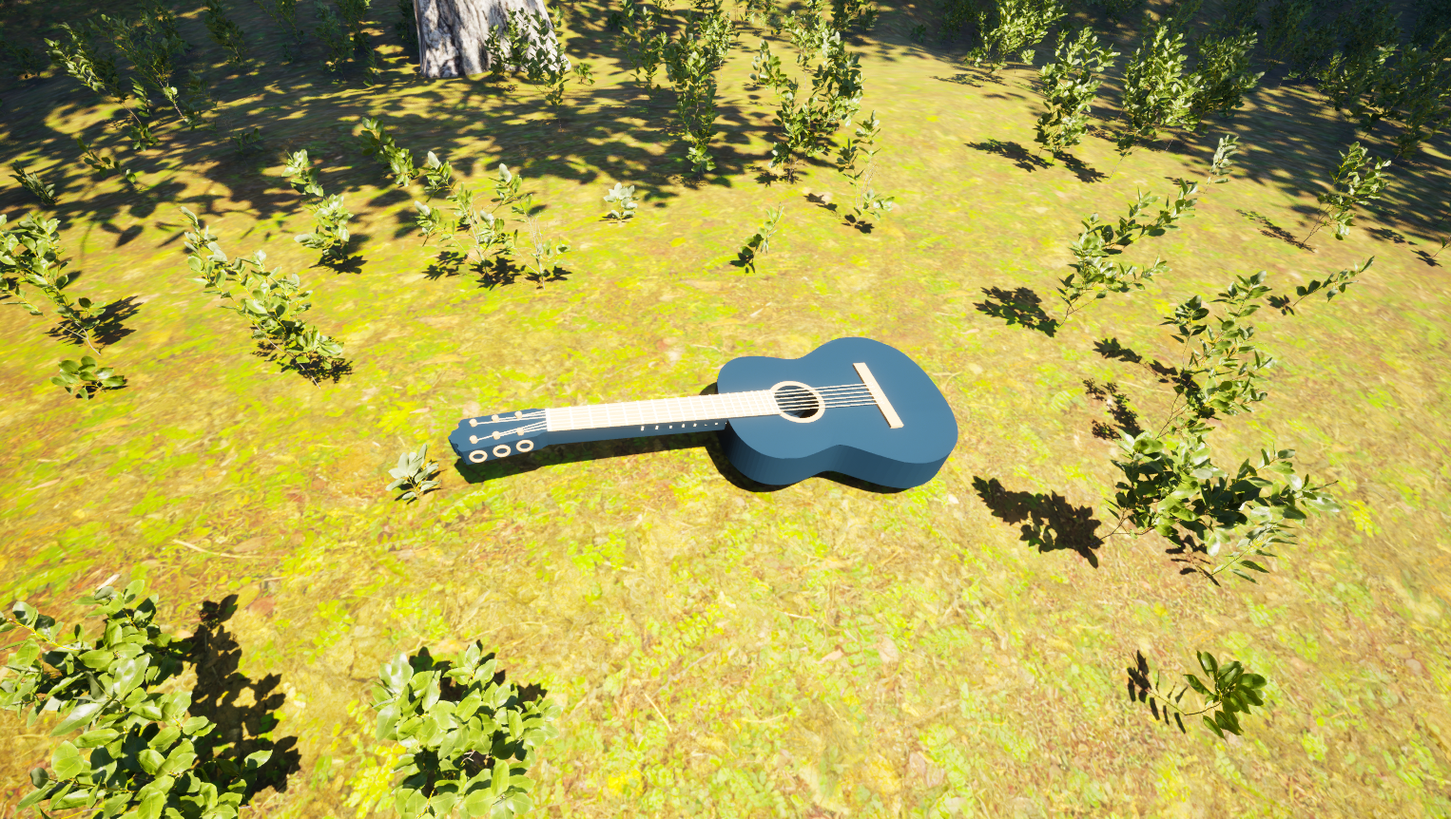Guitar: (432, 271, 1018, 602)
